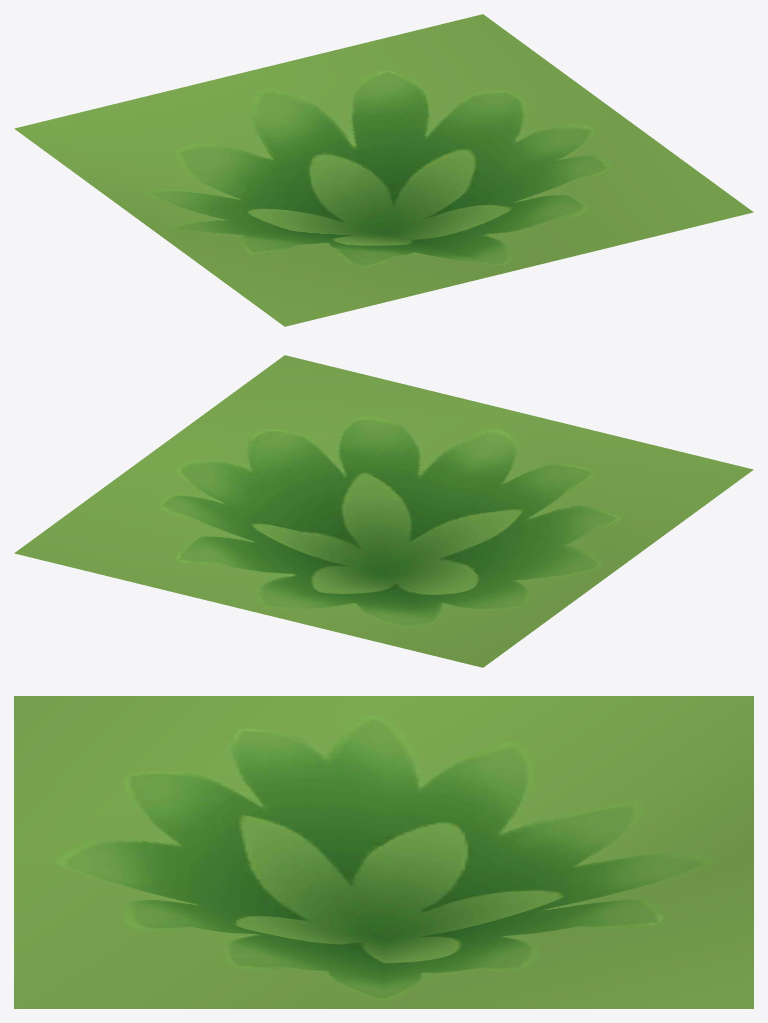
File: 0174_T_ZhenYin_Shu05.glb
The picture shows the model from 3 angles, top to bottom: view 1: azimuth 30°, elevation 25°; view 2: azimuth 150°, elevation 25°; view 3: azimuth 270°, elevation 25°; orthographic projection. The views are drawn at different scales.
Size of the model in its own units: 2.2 by 0.2812 by 2.2.
1 material, 1 textured.
